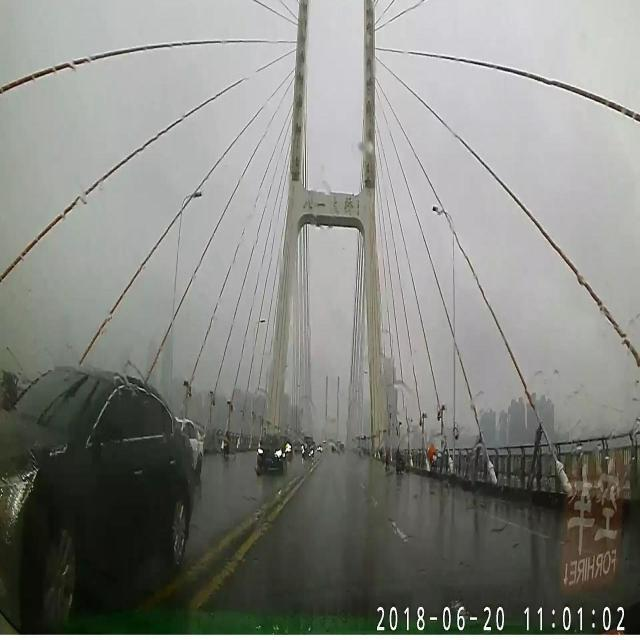car: (0, 362, 193, 630), (168, 415, 204, 480), (254, 437, 286, 472), (393, 444, 405, 472), (302, 436, 316, 454), (384, 447, 389, 470)
